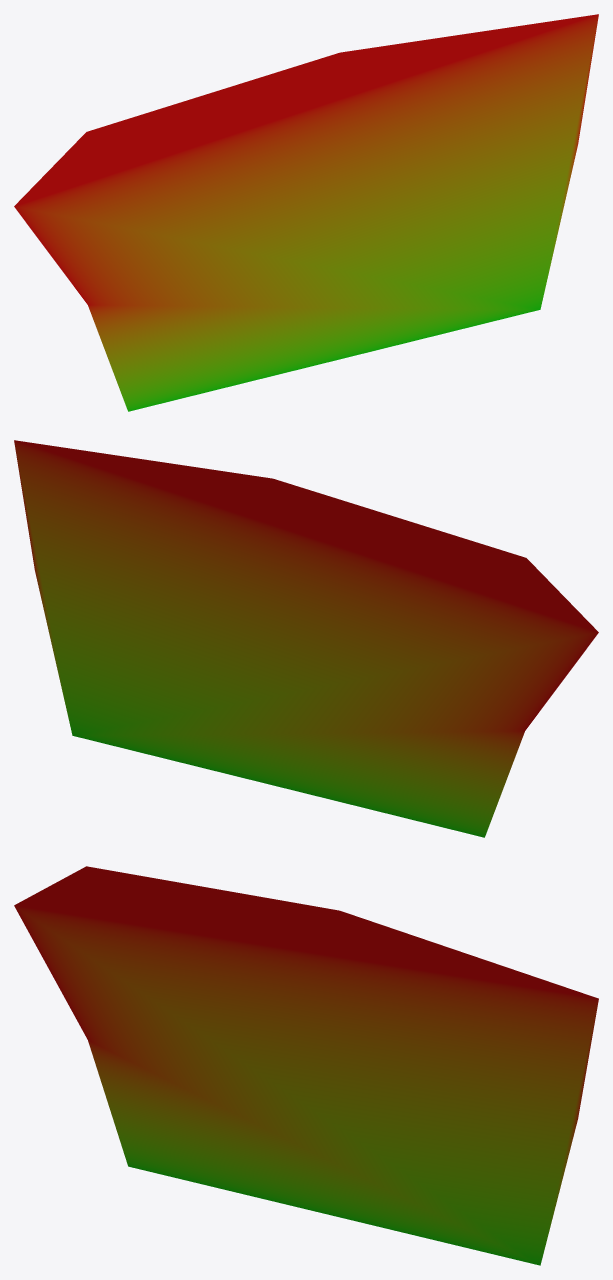
The model's file is Var7_LOD3.fbx.
The picture shows the model from 3 angles, top to bottom: view 1: azimuth 30°, elevation 25°; view 2: azimuth 150°, elevation 25°; view 3: azimuth 330°, elevation 25°; orthographic projection.
Parts seen in each view (by area): view 1: _2582_Var7_LOD3; view 2: _2582_Var7_LOD3; view 3: _2582_Var7_LOD3.
Boxes of the visible parts, left/top/right/bottom form: _2582_Var7_LOD3: left=14, top=14, right=598, bottom=411; _2582_Var7_LOD3: left=14, top=440, right=598, bottom=837; _2582_Var7_LOD3: left=14, top=866, right=598, bottom=1265.
Size of the model in its own units: 18.58 by 9.34 by 3.58e-07.
